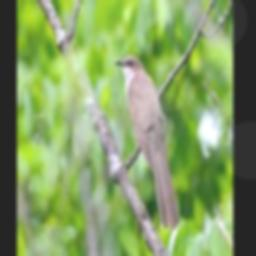Cuckoo: (115, 55, 180, 230)
